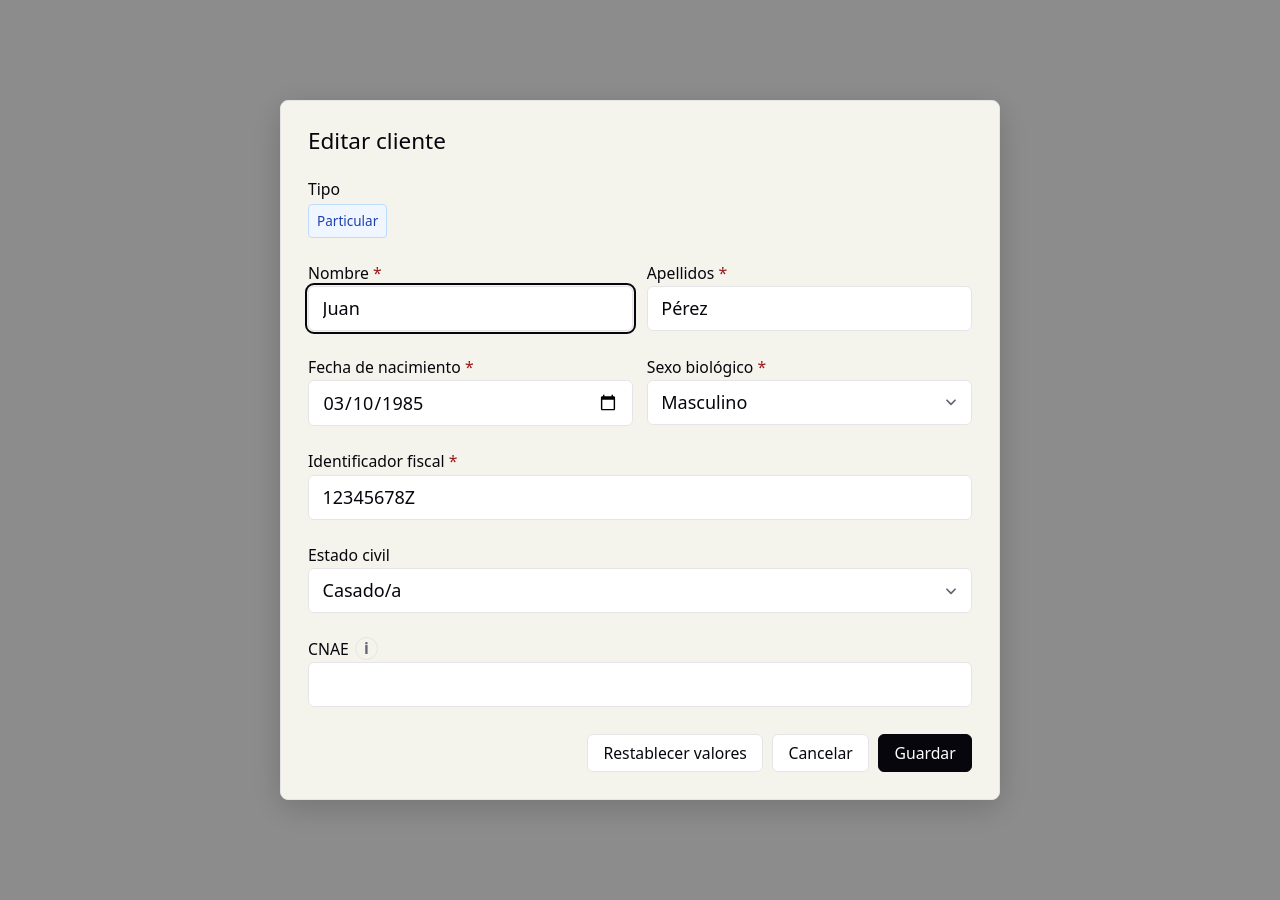
Test: CustomerFormModal field errors › shows client validation errors under the affected field instead of the global banner
Clear the field labelled "Nombre *" at (471,309), box left=308, top=286, right=633, bottom=331
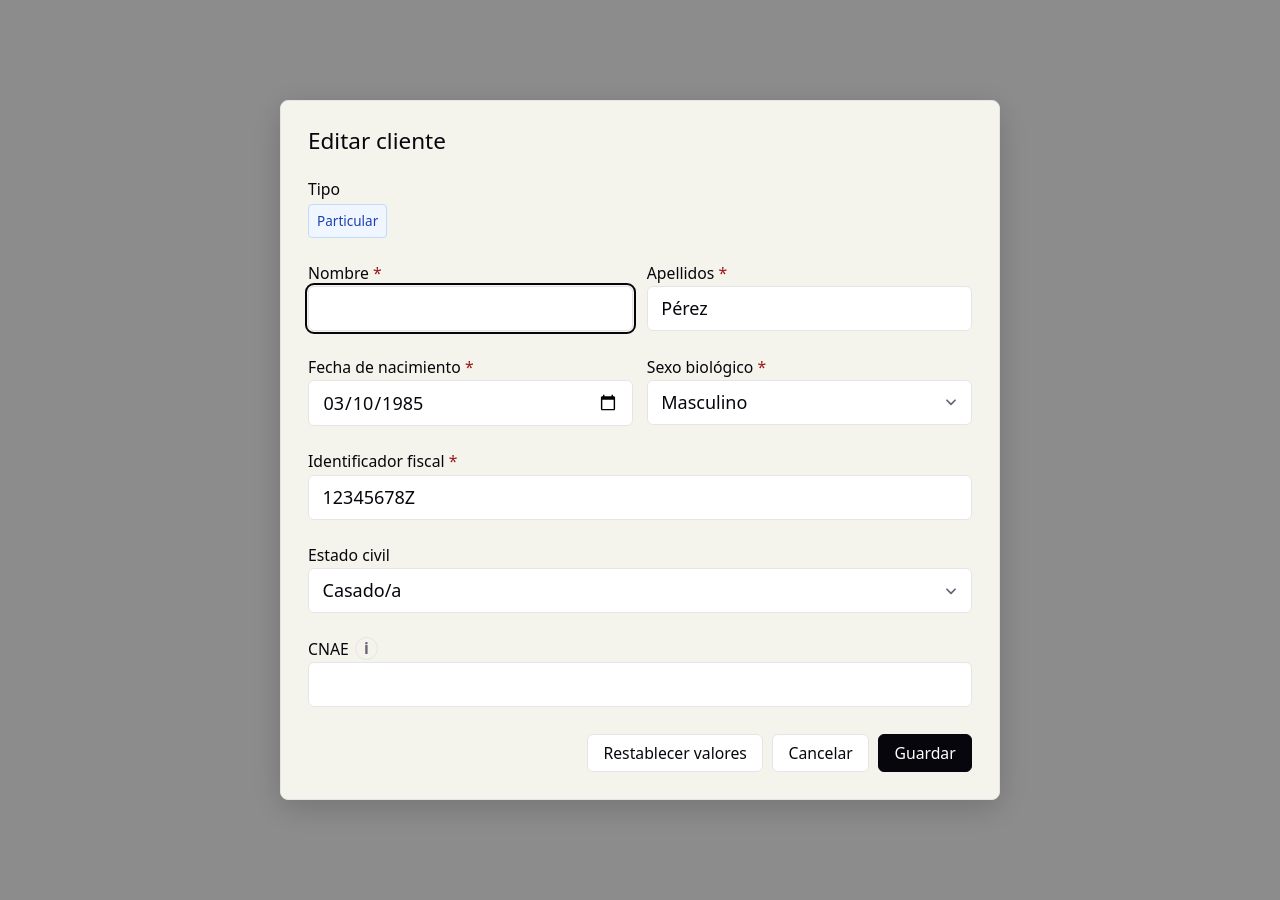
Click the button "Guardar" at (925,753), box left=878, top=734, right=972, bottom=772
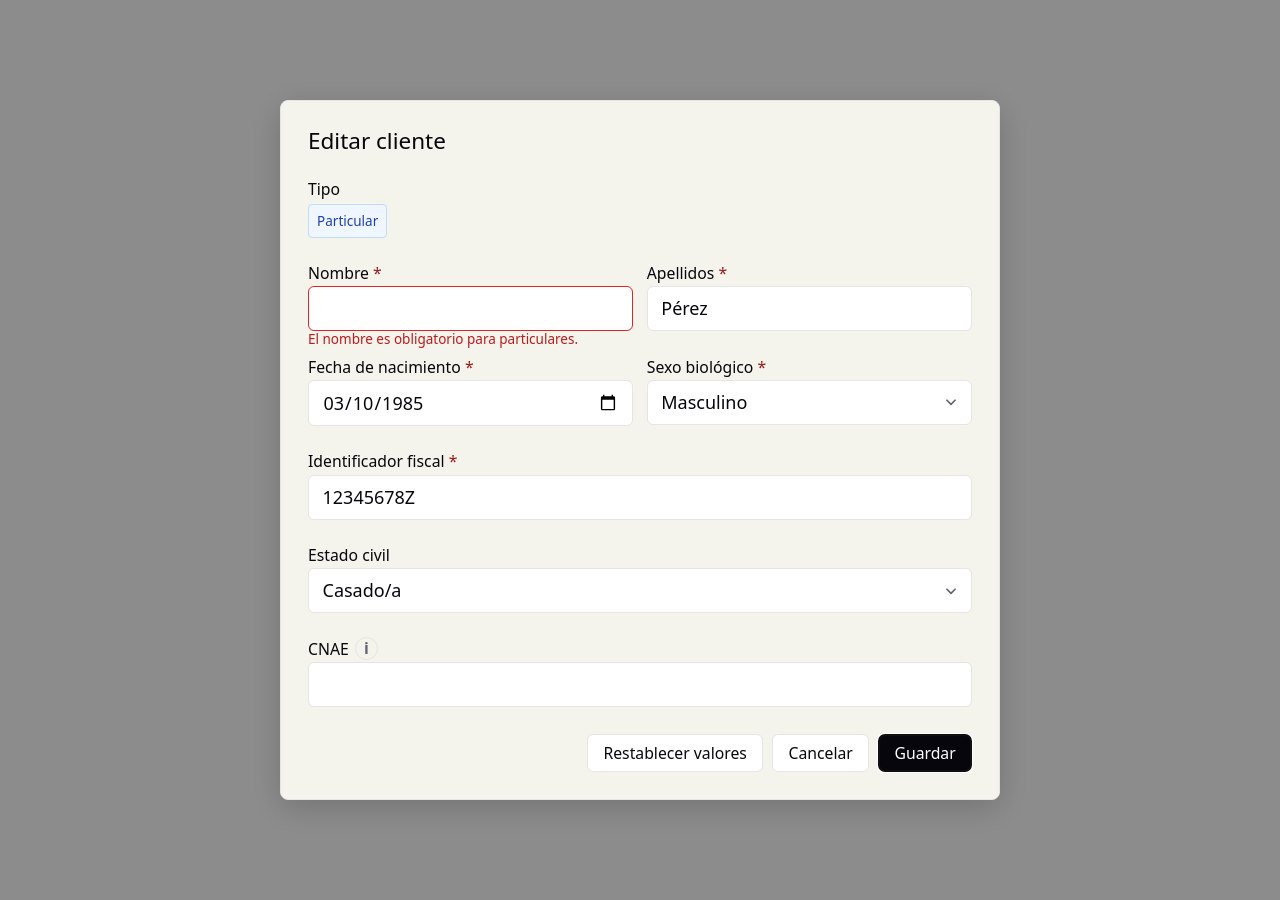
Expected: the message "El nombre es obligatorio para particulares." is shown, left=308, top=330, right=578, bottom=348
